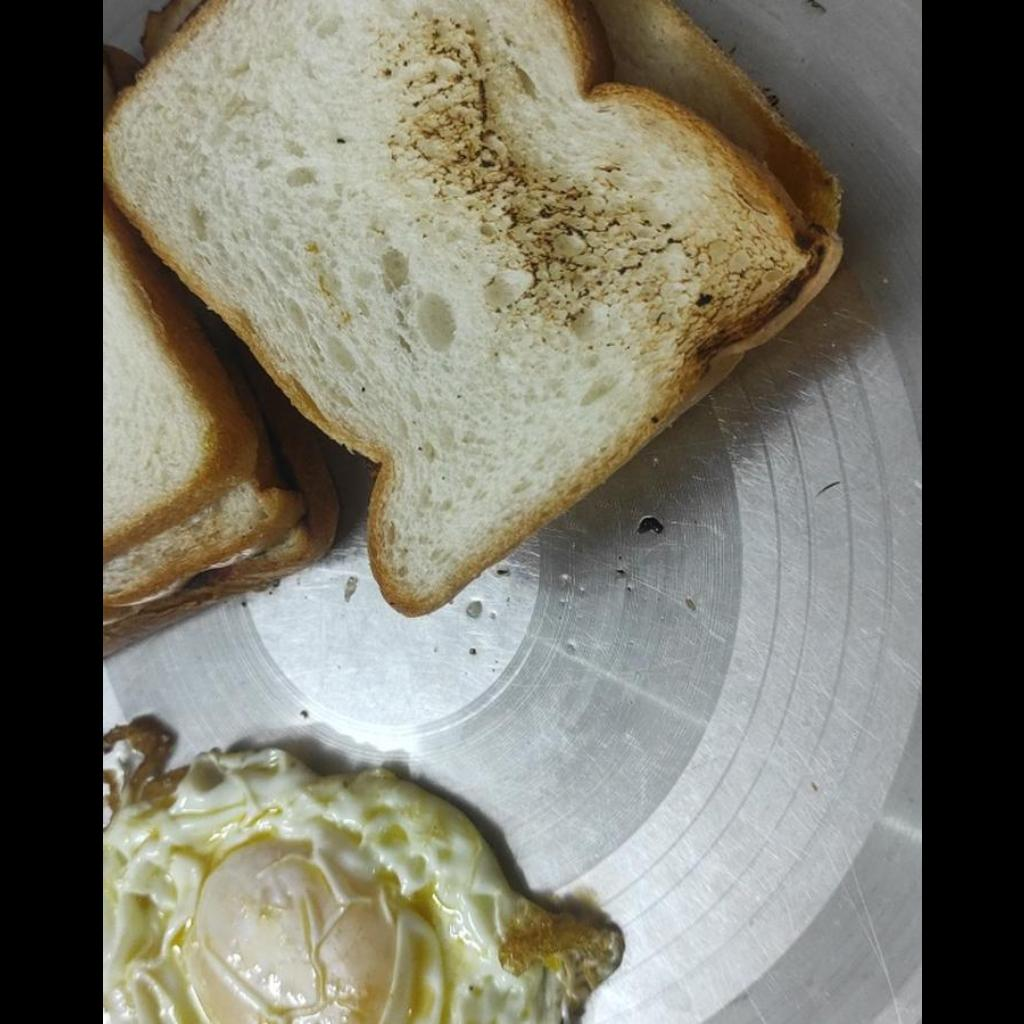bread: (102, 4, 844, 623)
egg-poached: (102, 722, 627, 1024)
